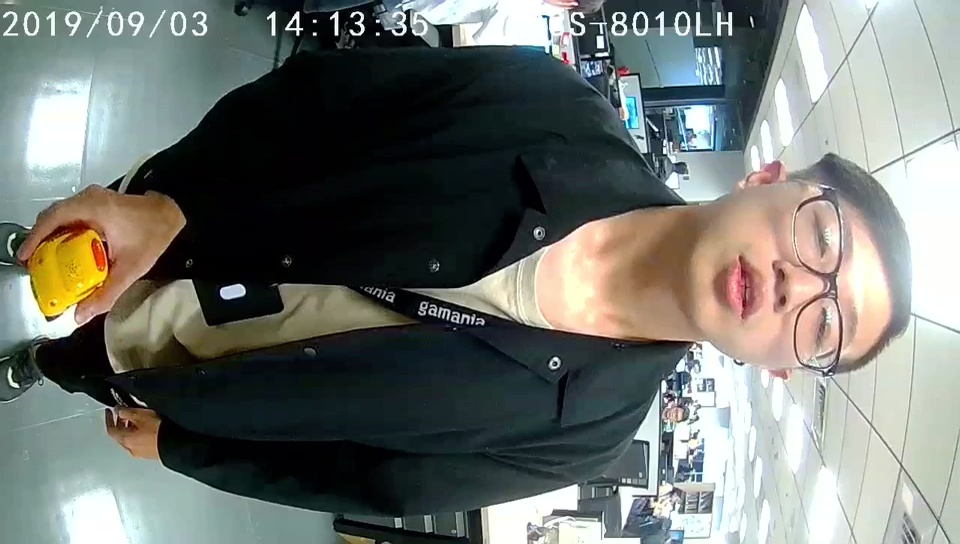car: (27, 220, 109, 323)
